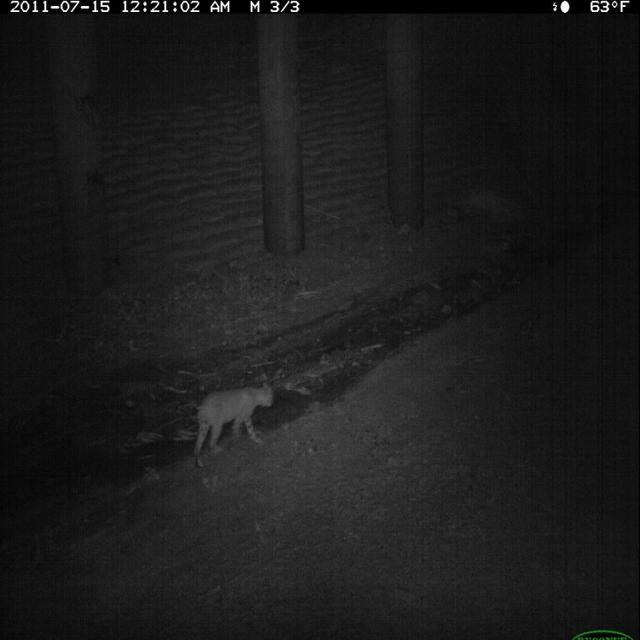bobcat: (189, 375, 279, 475)
